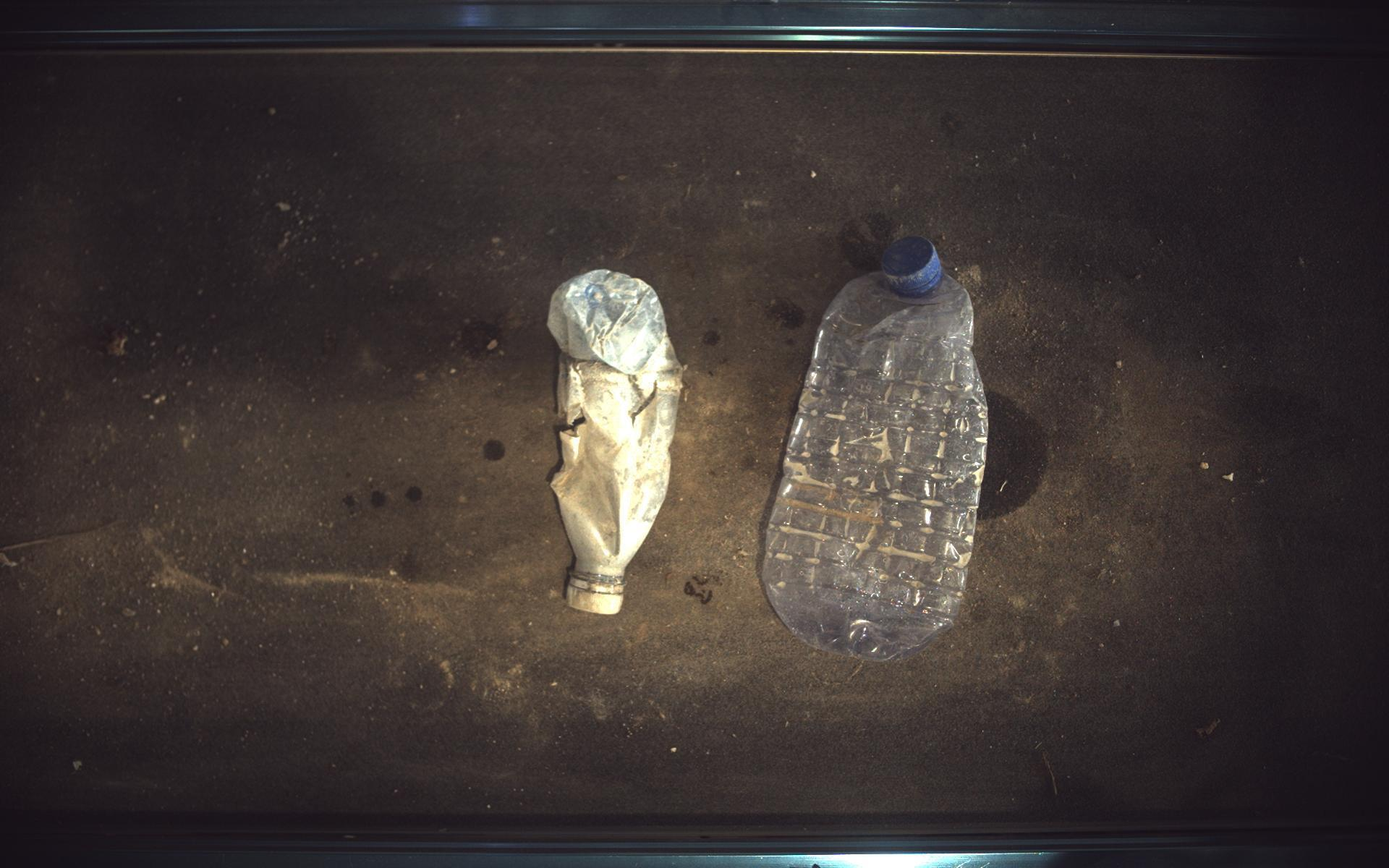general_w: (764, 235, 990, 661), (548, 269, 682, 616)
